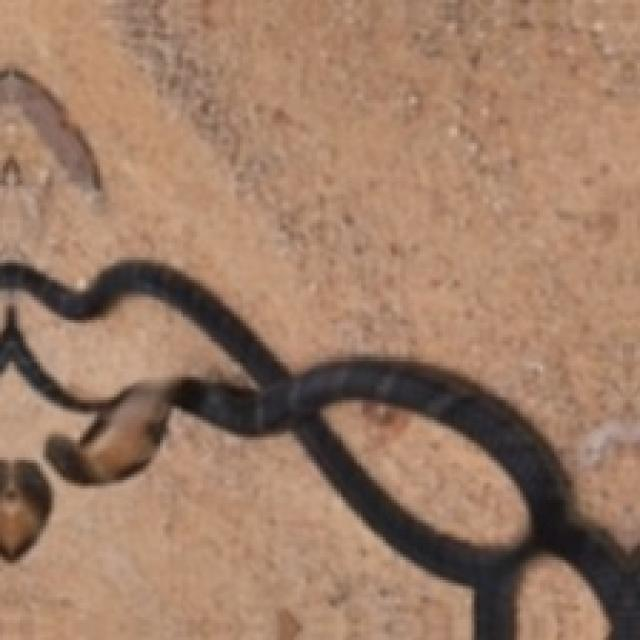king cobra: (0, 260, 637, 637)
